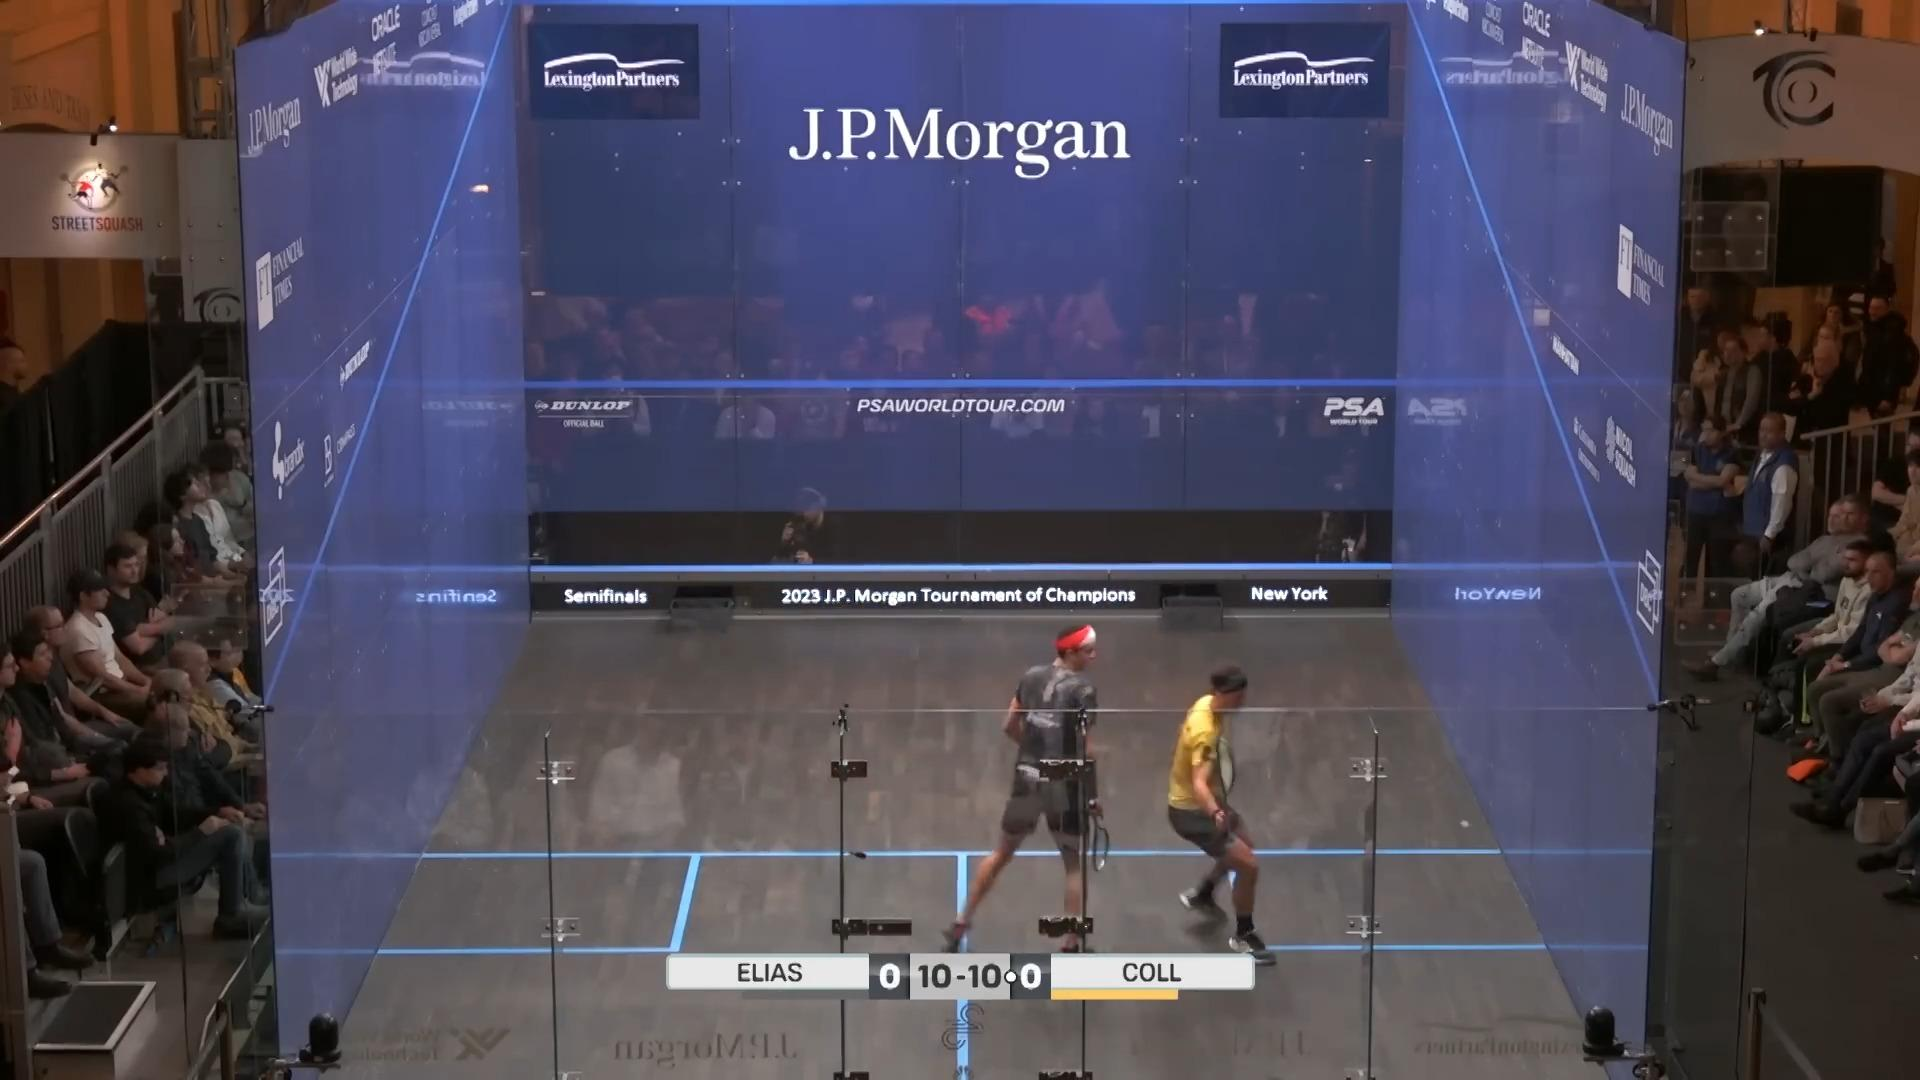Racket: (1084, 804, 1117, 885), (1211, 731, 1245, 804)
